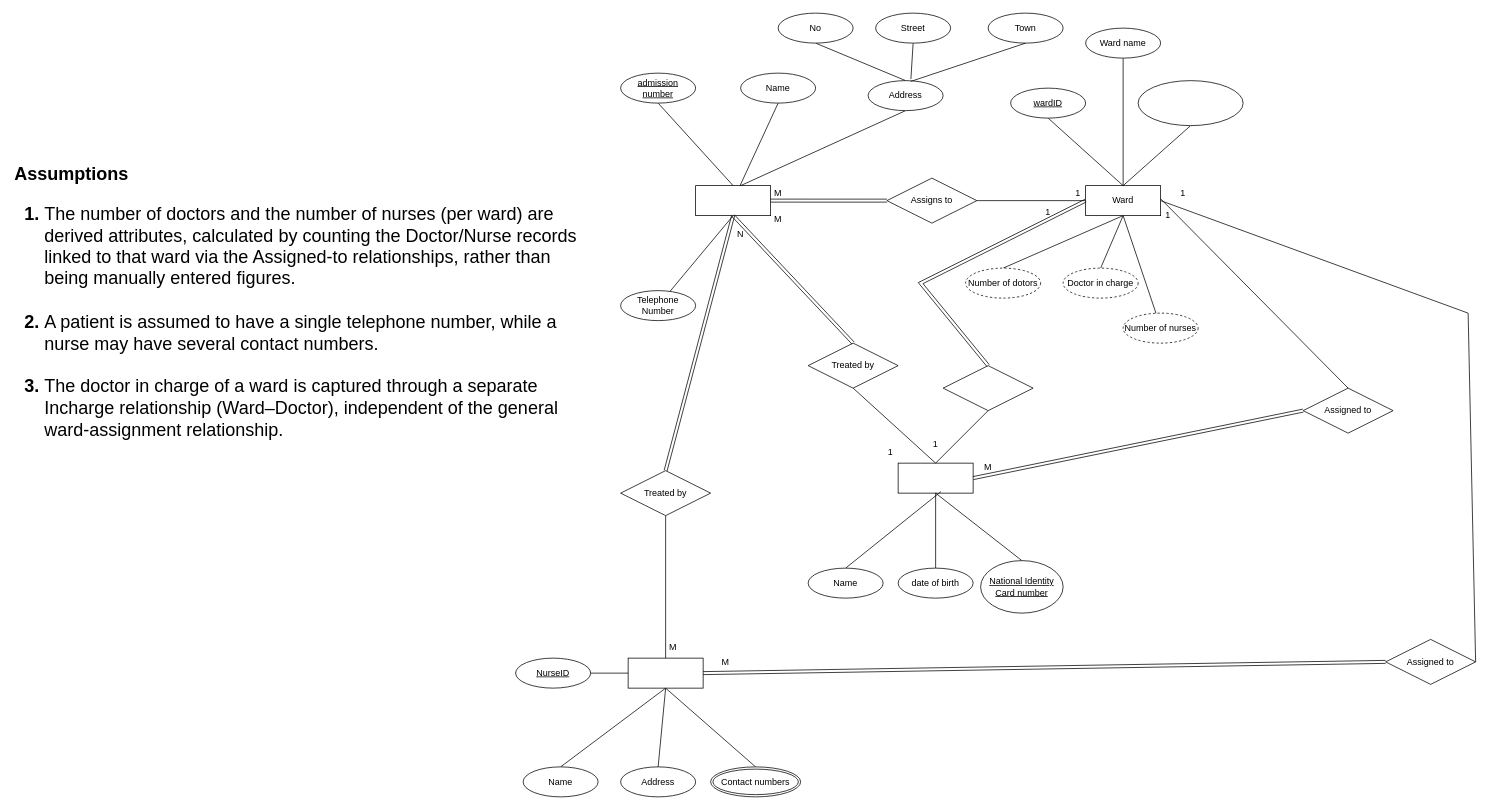
Some shapes in this 1490 by 810 pixel diagram are drawn without their labels. Each missing label, with the box of its shape:
Doctor: (897, 462, 973, 493)
Incharge: (942, 365, 1033, 411)
maximum number of patients that can be admitted: (1137, 80, 1243, 126)
Nurse: (627, 657, 703, 688)
Patient: (695, 185, 771, 216)
